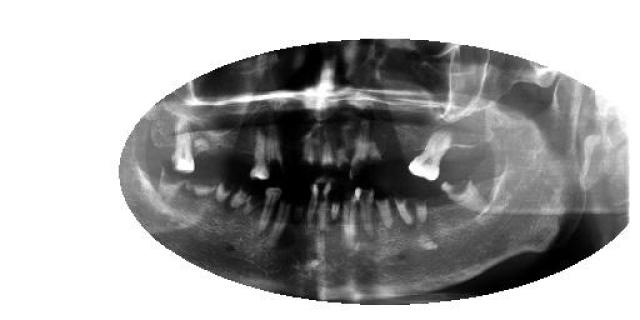Cavity: (440, 172, 488, 212), (348, 119, 372, 181), (340, 184, 362, 245), (272, 194, 292, 242), (158, 160, 182, 198), (266, 124, 284, 174), (359, 184, 375, 238), (392, 182, 412, 224), (304, 182, 320, 230), (373, 189, 392, 229), (412, 178, 428, 224), (318, 181, 332, 231), (215, 174, 234, 204), (242, 192, 262, 220), (298, 140, 314, 174), (231, 182, 249, 210), (333, 142, 348, 172), (322, 142, 332, 172), (331, 196, 340, 224)
